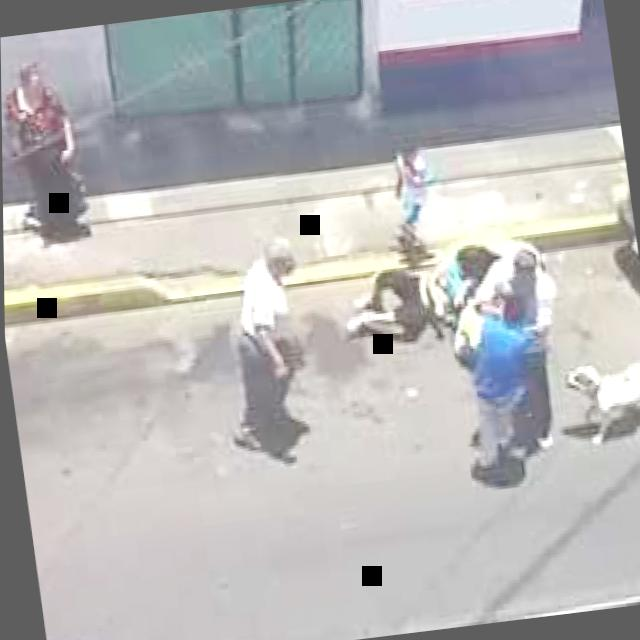Fall-Detected: (321, 233, 485, 356)
